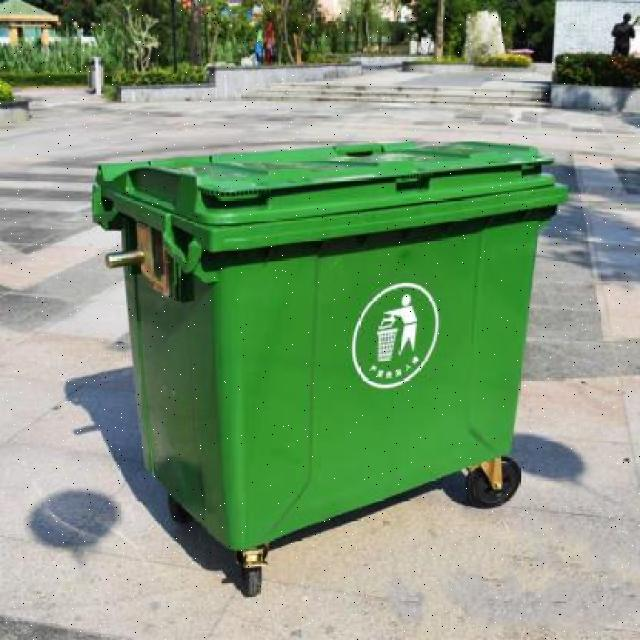garbage container: (77, 130, 594, 616)
